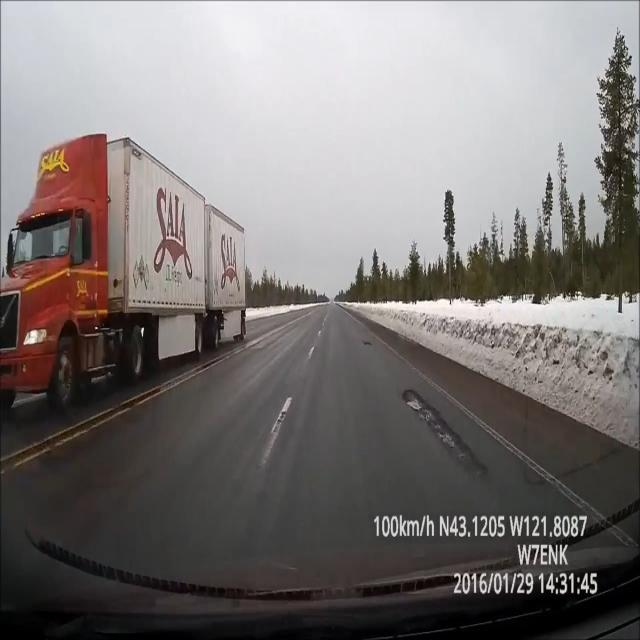Pothole: (399, 380, 481, 478)
